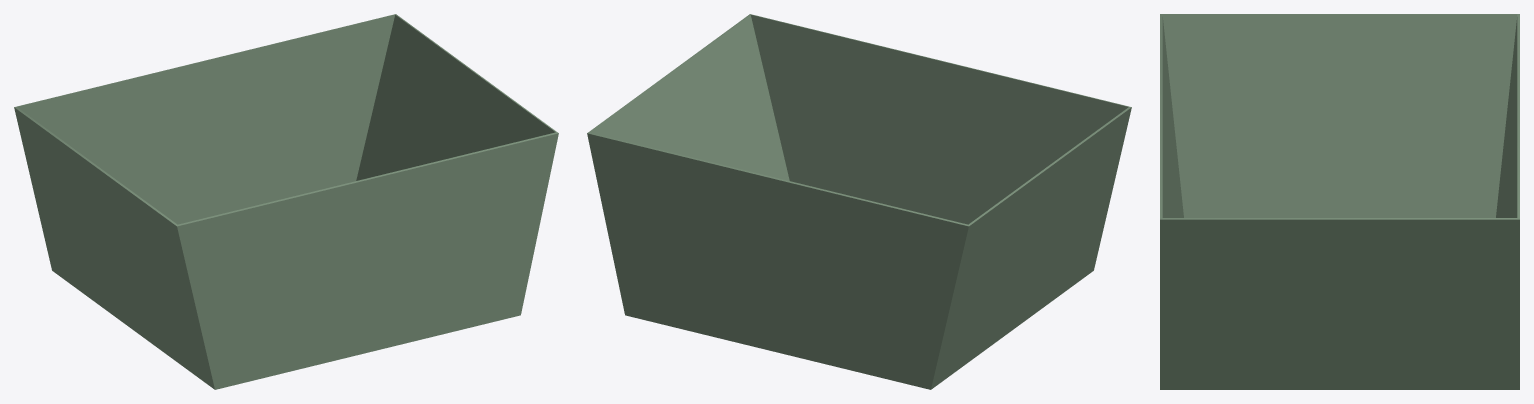
The model's file is AngledBoxGeo.fbx.
The picture shows the model from 3 angles, left to right: view 1: azimuth 30°, elevation 25°; view 2: azimuth 150°, elevation 25°; view 3: azimuth 270°, elevation 25°; orthographic projection. The views are drawn at different scales.
Parts seen in each view (by area): view 1: AngledBoxGeo; view 2: AngledBoxGeo; view 3: AngledBoxGeo.
Boxes of the visible parts, x1=… form: AngledBoxGeo: x1=14, y1=14, x2=558, y2=389; AngledBoxGeo: x1=587, y1=14, x2=1131, y2=389; AngledBoxGeo: x1=1160, y1=14, x2=1519, y2=389.
Bounding box in the file's own units: 135 × 58.48 × 99.67.
